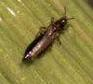tiny_pests: (10, 2, 89, 69)
